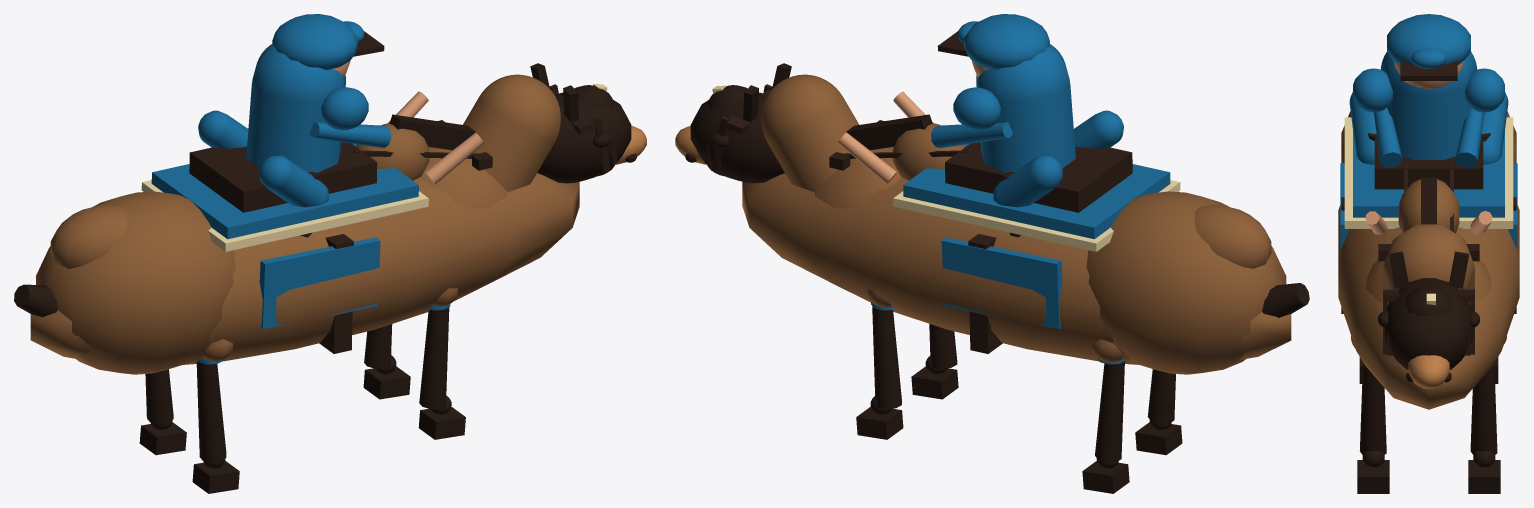
Rendered from kokpar-rider-horse.glb.
3 renders of one model, left to right at view 1: azimuth 30°, elevation 25°; view 2: azimuth 150°, elevation 25°; view 3: azimuth 270°, elevation 25°, orthographic.
Visible parts, largest first — view 1: horse_body, horse_hindquarters, pose_torso, horse_neck, uniform_saddleblanket, tack_saddle, uniform_side_panel_left, horse_head, pose_helmet, horse_croup, uniform_trim_blanket, horse_chest (+17 smaller); view 2: horse_body, horse_hindquarters, pose_torso, horse_neck, uniform_saddleblanket, tack_saddle, uniform_side_panel_right, horse_head, pose_helmet, horse_croup, uniform_trim_blanket, horse_chest (+17 smaller); view 3: horse_body, pose_torso, horse_head, uniform_saddleblanket, horse_neck, pose_helmet, tack_saddle, uniform_trim_blanket, fl_lower_leg, fr_lower_leg, horse_withers, pose_shoulder_left (+24 smaller).
Boxes of the visible parts, left/top/right/bottom form: horse_body: left=30, top=173, right=579, bottom=364; horse_hindquarters: left=36, top=191, right=235, bottom=374; pose_torso: left=246, top=44, right=345, bottom=172; horse_neck: left=463, top=74, right=560, bottom=192; uniform_saddleblanket: left=151, top=143, right=418, bottom=239; tack_saddle: left=189, top=142, right=377, bottom=212; uniform_side_panel_left: left=259, top=237, right=380, bottom=328; horse_head: left=537, top=92, right=631, bottom=183; pose_helmet: left=272, top=14, right=357, bottom=69; horse_croup: left=50, top=205, right=127, bottom=268; uniform_trim_blanket: left=141, top=180, right=428, bottom=251; horse_chest: left=421, top=146, right=507, bottom=208; horse_body: left=742, top=173, right=1291, bottom=364; horse_hindquarters: left=1086, top=191, right=1286, bottom=374; pose_torso: left=976, top=44, right=1075, bottom=172; horse_neck: left=761, top=74, right=859, bottom=192; uniform_saddleblanket: left=903, top=144, right=1170, bottom=239; tack_saddle: left=945, top=142, right=1132, bottom=212; uniform_side_panel_right: left=941, top=237, right=1062, bottom=329; horse_head: left=690, top=92, right=784, bottom=183; pose_helmet: left=964, top=14, right=1049, bottom=69; horse_croup: left=1194, top=205, right=1271, bottom=268; uniform_trim_blanket: left=893, top=180, right=1180, bottom=251; horse_chest: left=814, top=146, right=900, bottom=208; horse_body: left=1338, top=205, right=1519, bottom=409; pose_torso: left=1380, top=52, right=1477, bottom=159; horse_head: left=1384, top=278, right=1473, bottom=369; uniform_saddleblanket: left=1353, top=131, right=1504, bottom=217; horse_neck: left=1383, top=224, right=1474, bottom=305; pose_helmet: left=1387, top=14, right=1470, bottom=64; tack_saddle: left=1374, top=138, right=1483, bottom=189; uniform_trim_blanket: left=1344, top=117, right=1513, bottom=228; fl_lower_leg: left=1360, top=362, right=1386, bottom=454; fr_lower_leg: left=1470, top=363, right=1497, bottom=454; horse_withers: left=1398, top=179, right=1459, bottom=233; pose_shoulder_left: left=1353, top=68, right=1392, bottom=112.
Bounding box in the file's own units: 6.32 × 4 × 1.57.
